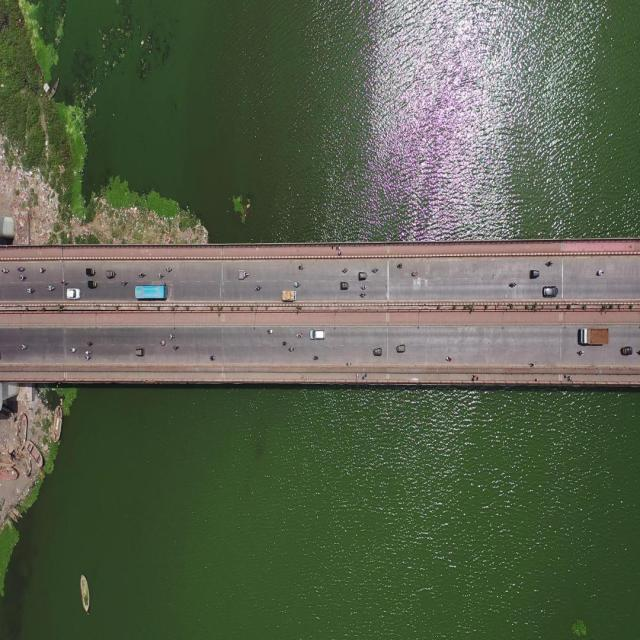3W: (338, 278, 352, 294), (620, 341, 634, 357), (132, 344, 146, 359), (395, 339, 407, 356), (528, 267, 542, 281), (238, 268, 250, 283), (87, 278, 100, 290), (373, 346, 385, 358), (357, 269, 369, 281), (85, 265, 96, 278), (106, 268, 117, 281)
Bus: (133, 282, 169, 303)
Cars: (308, 325, 327, 341), (542, 282, 558, 300), (66, 286, 83, 299)
M2W: (592, 265, 606, 279), (68, 342, 81, 357), (252, 281, 265, 294), (543, 259, 556, 272), (45, 280, 57, 294), (575, 344, 586, 358), (527, 358, 538, 370), (86, 335, 96, 348), (340, 264, 351, 275), (38, 265, 48, 277), (60, 276, 70, 288), (20, 340, 30, 352), (137, 267, 147, 279), (506, 277, 516, 289), (26, 283, 36, 294), (395, 262, 405, 273), (159, 338, 168, 350), (265, 324, 274, 336), (16, 263, 26, 273), (18, 273, 28, 282), (295, 330, 304, 340), (310, 352, 320, 361), (444, 353, 454, 362), (120, 276, 128, 287), (208, 352, 216, 363), (370, 264, 378, 275), (411, 270, 422, 278), (359, 281, 368, 290), (171, 343, 180, 352), (2, 267, 10, 277), (165, 264, 173, 274), (287, 346, 296, 354), (292, 280, 301, 288), (84, 349, 94, 356), (156, 272, 164, 280), (297, 261, 305, 269), (168, 331, 175, 340), (345, 360, 352, 368), (358, 292, 367, 298), (282, 338, 287, 346), (84, 357, 92, 359)
Truck: (578, 318, 613, 349), (280, 290, 300, 301)
